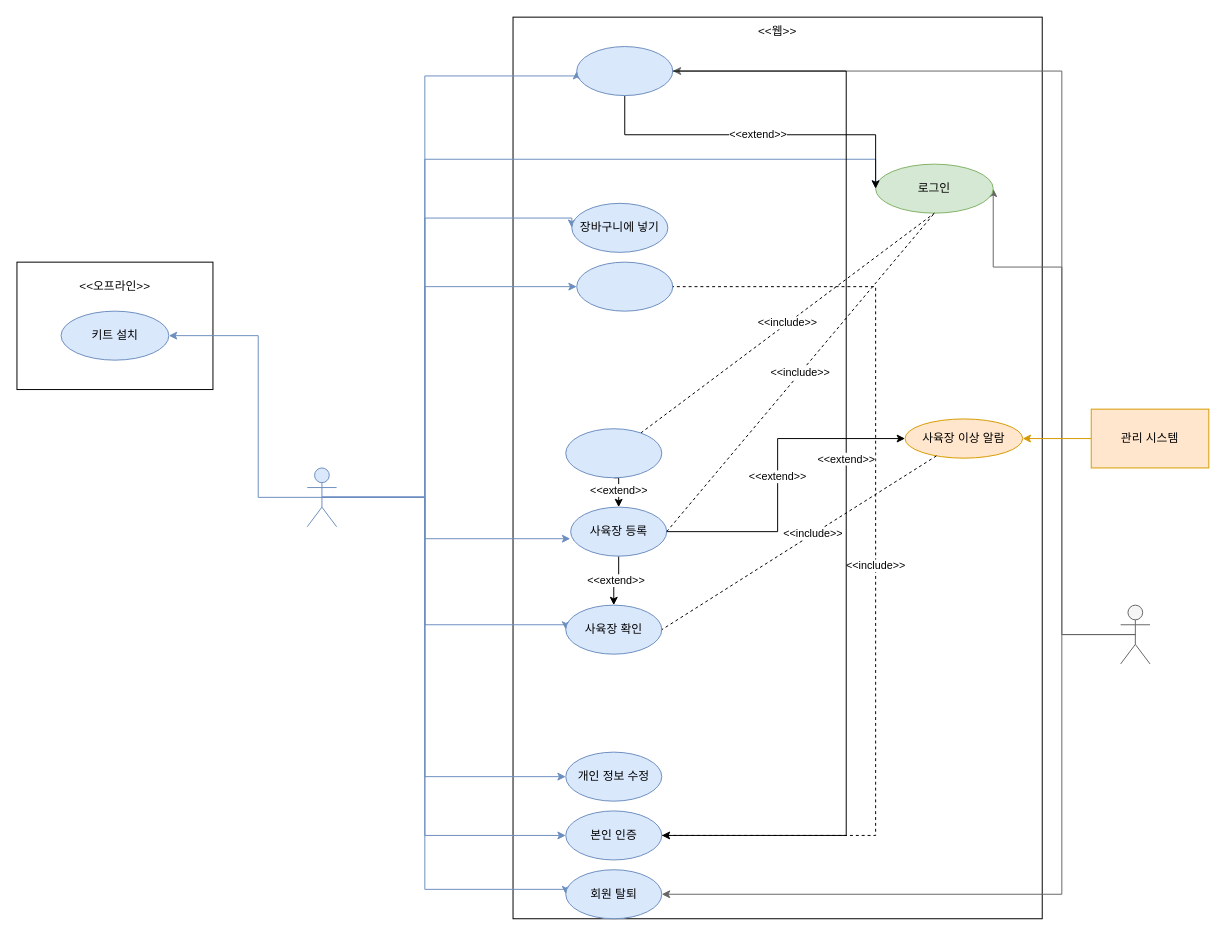
This 1227x944 diagram has some shape labels left out. Each missing label, with the centre of its shape:
"Actor 관리자" belongs at pixel 1135 634.
"Actor 사용자" belongs at pixel 321 497.
"결제" belongs at pixel 624 286.
"동물 등록" belongs at pixel 613 453.
"회원가입" belongs at pixel 624 71.
